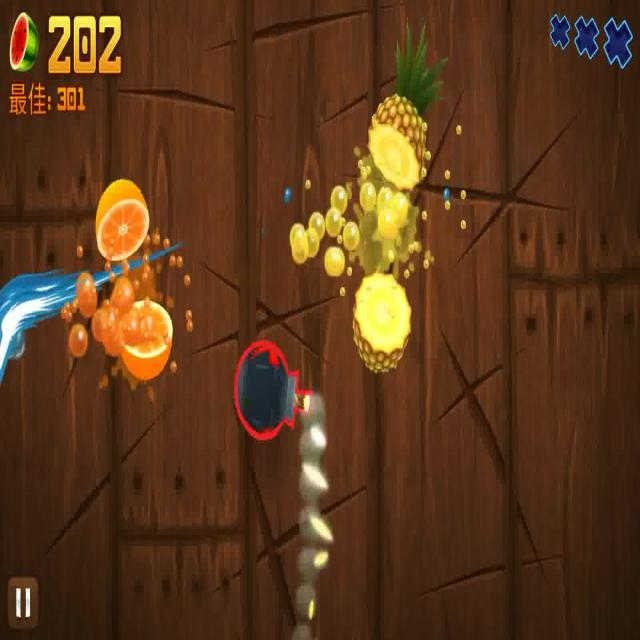bomb: (230, 339, 324, 453)
fruit: (372, 22, 442, 187), (349, 265, 413, 366), (116, 300, 176, 384), (94, 184, 147, 254)
